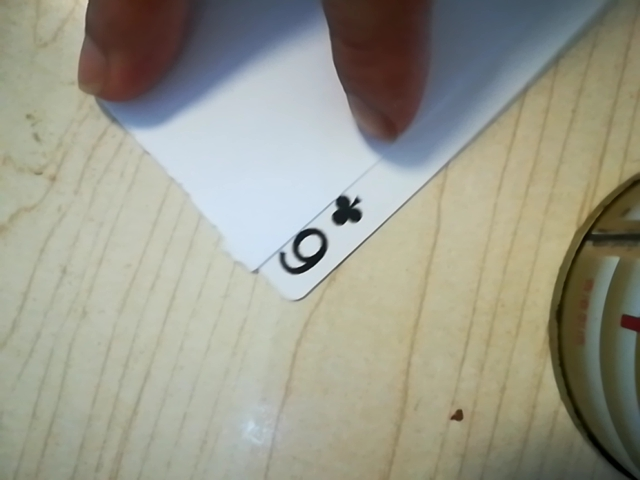mh 6: (265, 185, 379, 290)
